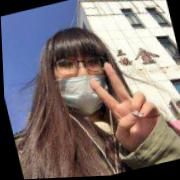WRONG: (48, 44, 114, 119)
